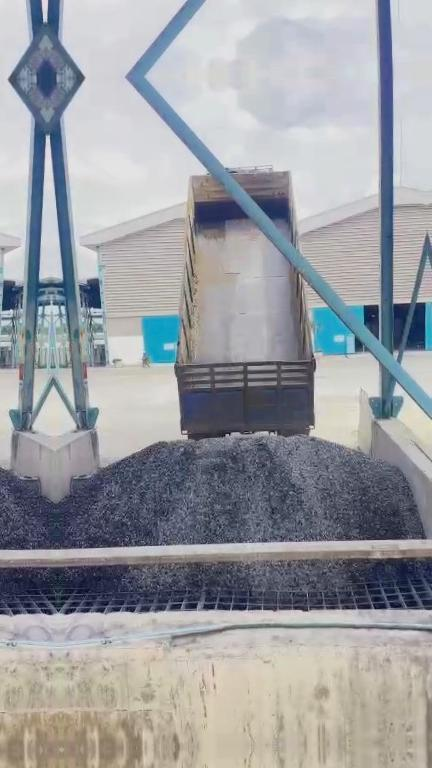gravel: (56, 435, 424, 547), (57, 560, 418, 591)
